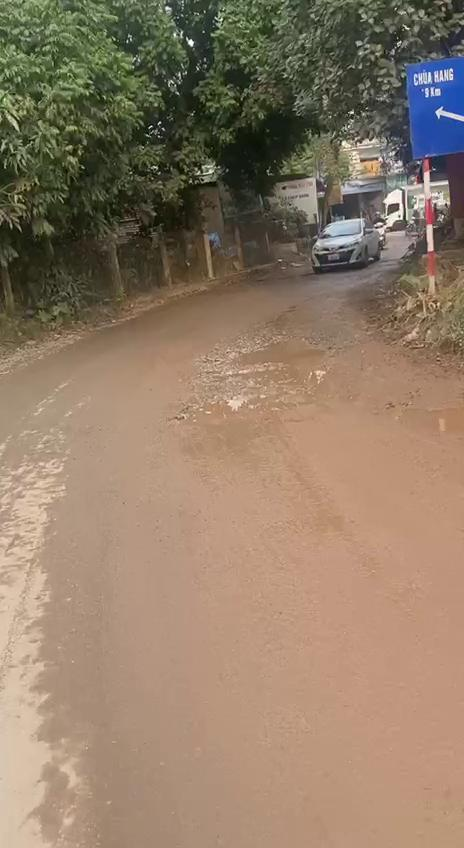pothole: (178, 386, 294, 430), (226, 328, 328, 375)
